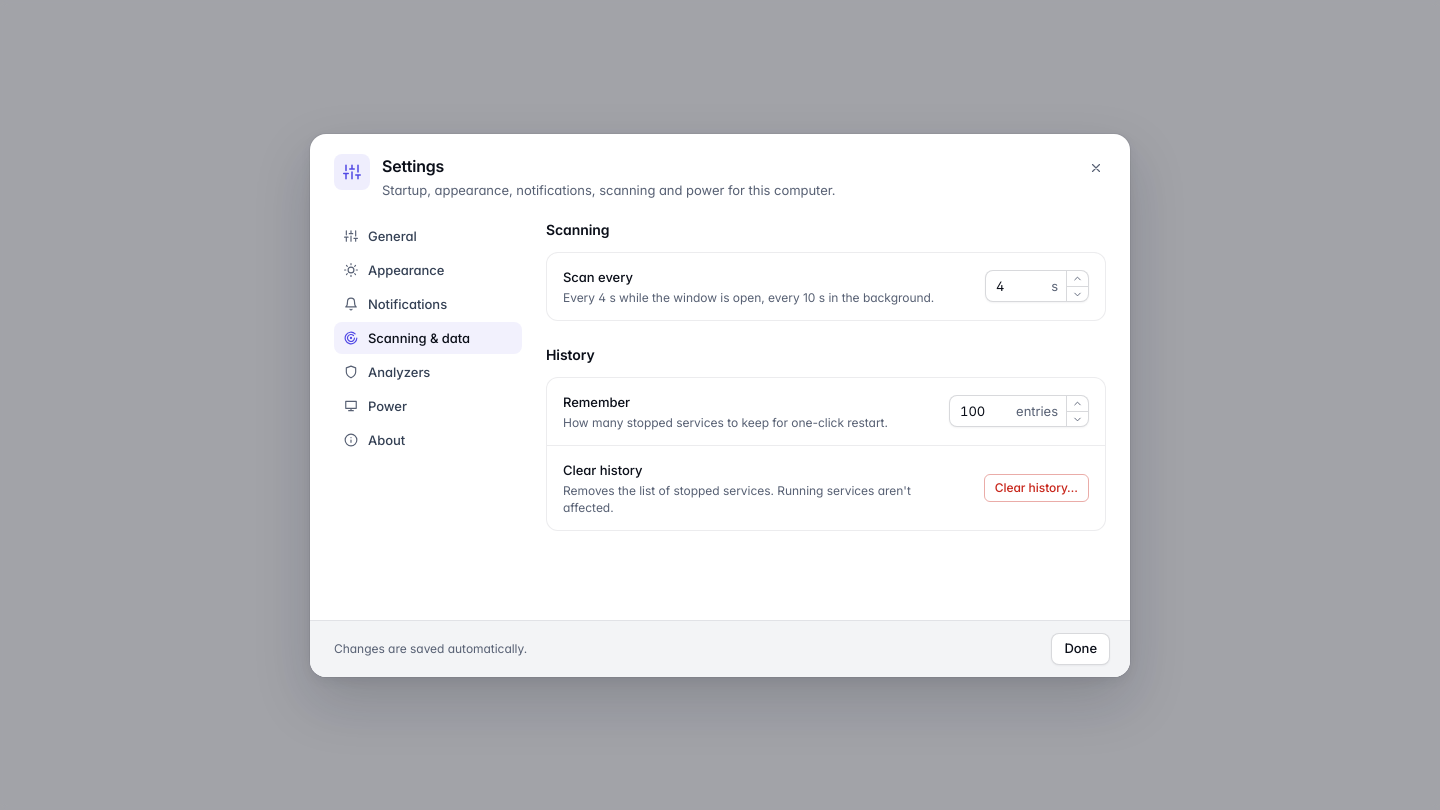
Test: native write failures › renders the settings history-clear failure beside the action
The image size is (1440, 810).
Click the button "Clear history…": (1036, 488) [984, 474, 1089, 502]
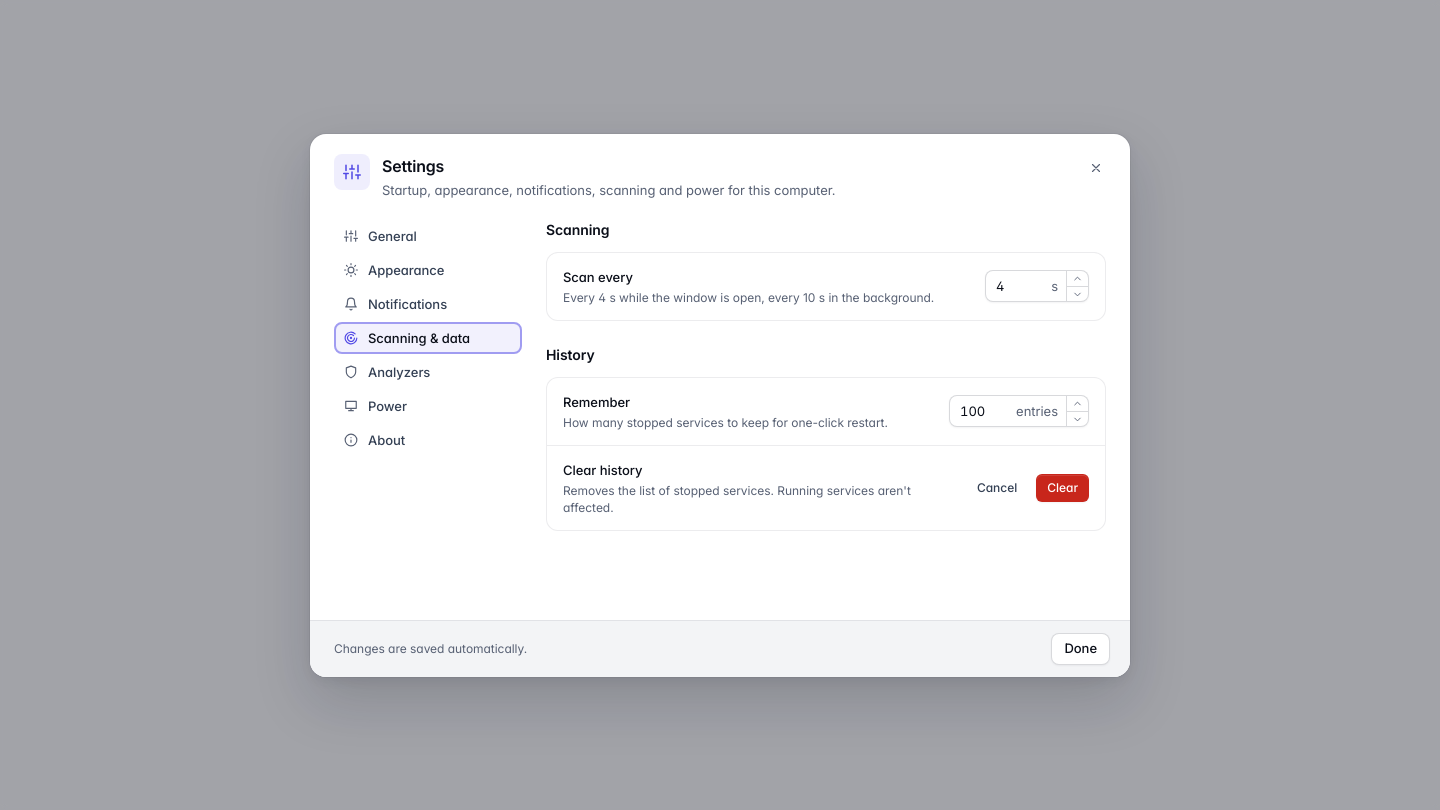
Click the button "Clear": (1063, 488) [1036, 474, 1089, 502]
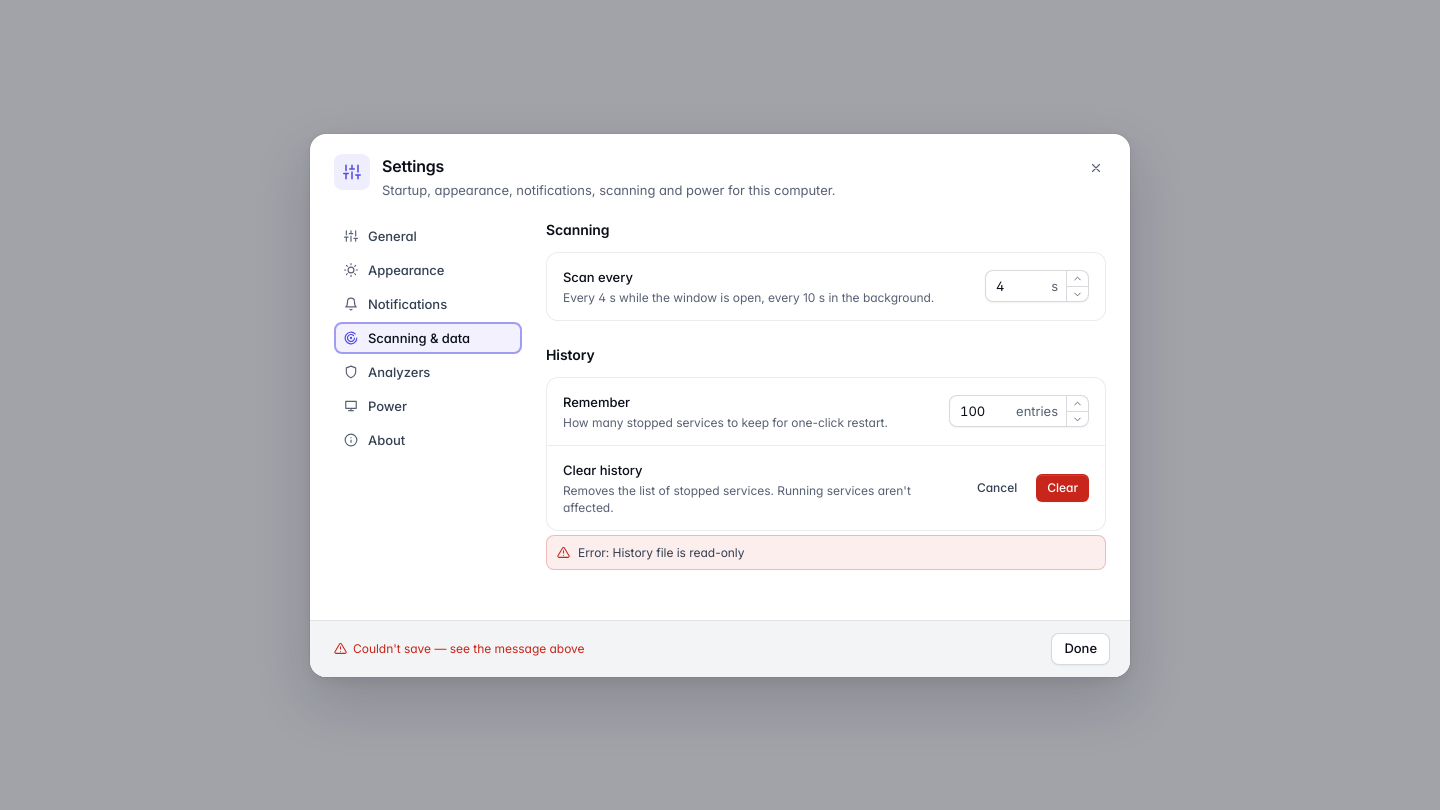
Expected: the message shows "History file is read-only", [578, 544, 744, 560]
